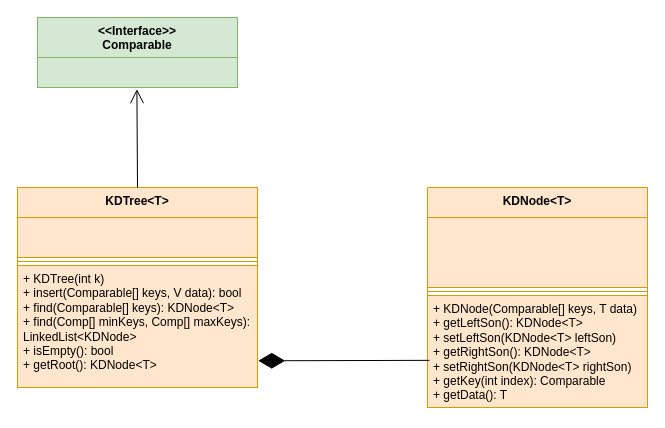
The diagram is 665 pixels wide and 428 high, and some of its shapes have lost their labels. The centre of each missing label's shape, as x and y in pixels:
+ compare(Comparable other): int: the point at 137,72
- k: int - root: KDNode<T>: the point at 137,237
- keys: Comparable[(k)] - data: T - leftSon: KDNode <T> - rightSon: KDNode <T>: the point at 537,252
